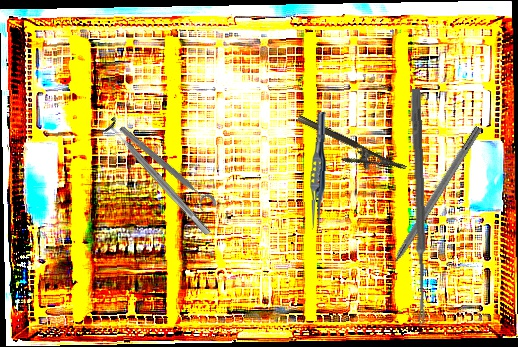Fixation Ring: (97, 115, 217, 243), (112, 122, 220, 218)
Hook Surgical: (379, 124, 483, 281)
Needle Holder: (289, 114, 408, 187)
Surgical Spoon: (409, 88, 429, 325)
Tissue Forceps: (308, 111, 329, 231)
